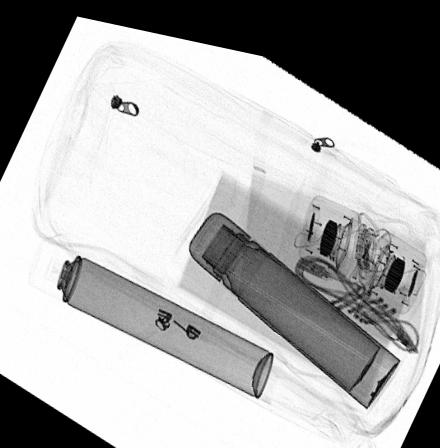Sprayer: (27, 237, 273, 387)
